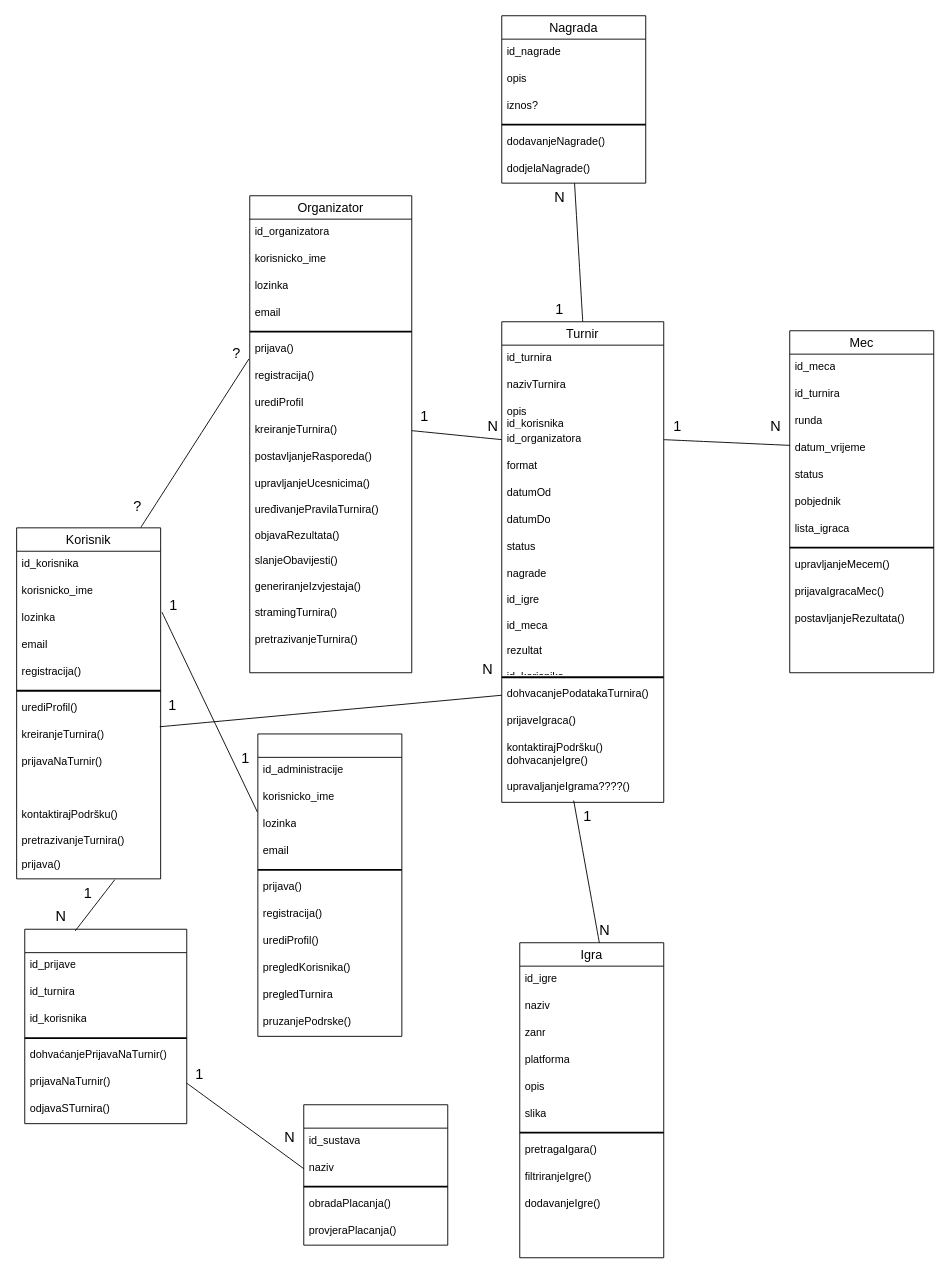
Image size: 950x1276. Some labels were removed from this diagram. The shapes that lost their labels are listed below. From the top down, each one's box as (x1, y1, x2, y2) in pixels, then its label:
(257, 733, 402, 1036): Administracija
(24, 928, 187, 1124): PrijaveNaTurnir
(303, 1104, 448, 1245): Sustav placanja
